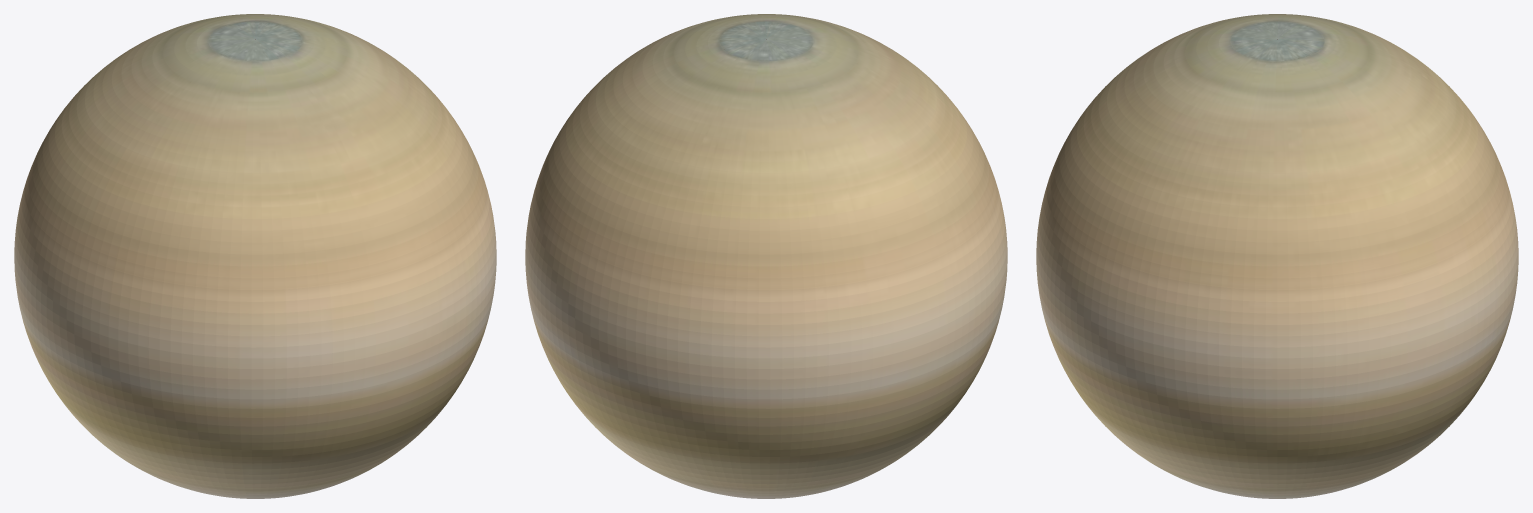
Rendered from planets-saturn.glb.
The picture shows the model from 3 angles, left to right: view 1: azimuth 30°, elevation 25°; view 2: azimuth 150°, elevation 25°; view 3: azimuth 270°, elevation 25°; orthographic projection.
Visible parts, largest first — view 1: Saturn; view 2: Saturn; view 3: Saturn.
Boxes of the visible parts, bbox=[...] form: Saturn: bbox=[14, 14, 496, 498]; Saturn: bbox=[525, 14, 1007, 498]; Saturn: bbox=[1036, 14, 1518, 498].
Size of the model in its own units: 1.97 by 1.96 by 1.97.
Materials: 1 (1 with a texture image).
